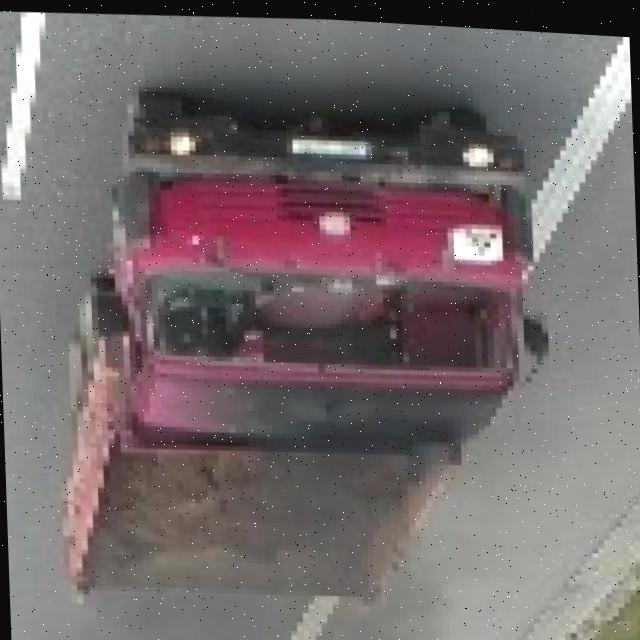truck: (41, 61, 564, 624)
